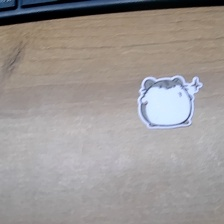mouse: (136, 73, 204, 131)
